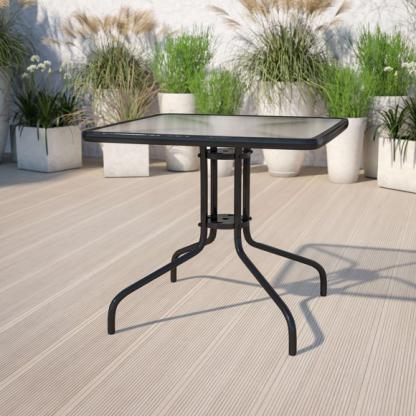table: (74, 107, 350, 359)
